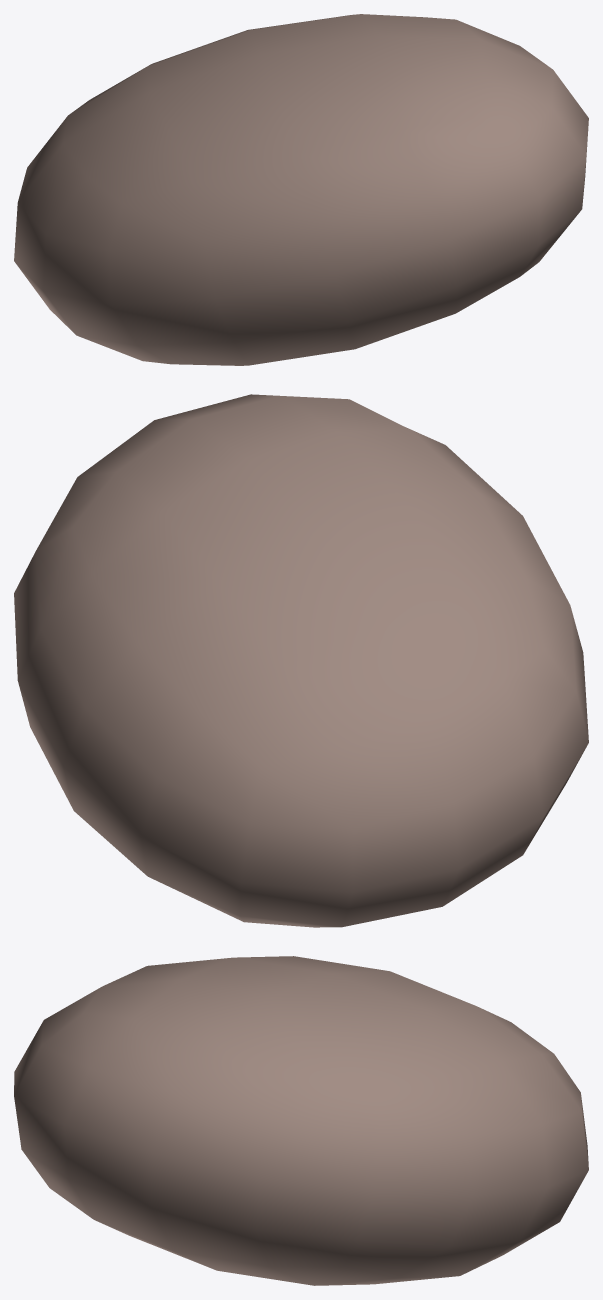
File: Piedra1F.fbx
3 renders of one model, top to bottom at view 1: azimuth 30°, elevation 25°; view 2: azimuth 150°, elevation 25°; view 3: azimuth 270°, elevation 25°, orthographic. The views are drawn at different scales.
Visible parts, largest first — view 1: Circle.002; view 2: Circle.002; view 3: Circle.002.
Boxes of the visible parts, left/top/right/bottom form: Circle.002: left=14, top=14, right=588, bottom=365; Circle.002: left=14, top=394, right=588, bottom=927; Circle.002: left=14, top=956, right=588, bottom=1285.
Size of the model in its own units: 100 by 62.13 by 105.
